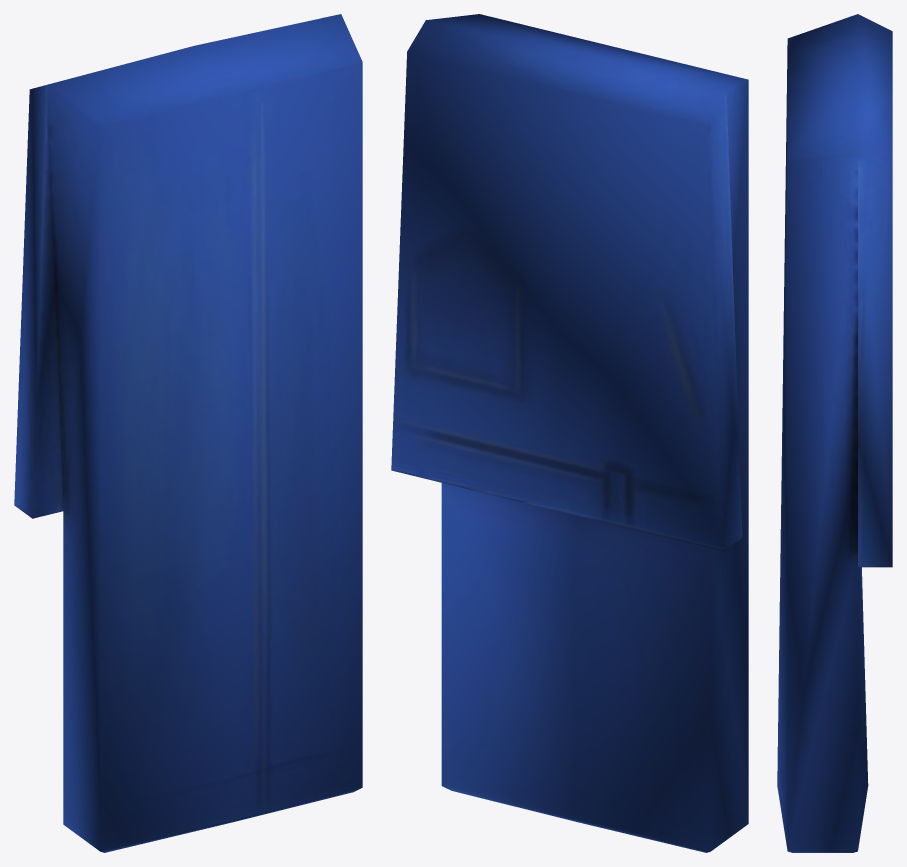
File: clothes_jeans.fbx
3 renders of one model, left to right at view 1: azimuth 30°, elevation 25°; view 2: azimuth 150°, elevation 25°; view 3: azimuth 270°, elevation 25°, orthographic. The views are drawn at different scales.
Parts seen in each view (by area): view 1: clothes_jeans; view 2: clothes_jeans; view 3: clothes_jeans.
Boxes of the visible parts, bbox=[...] form: clothes_jeans: bbox=[14, 14, 362, 852]; clothes_jeans: bbox=[391, 14, 748, 852]; clothes_jeans: bbox=[777, 14, 892, 852].
Bounding box in the file's own units: 35.51 × 11.5 × 78.69.
